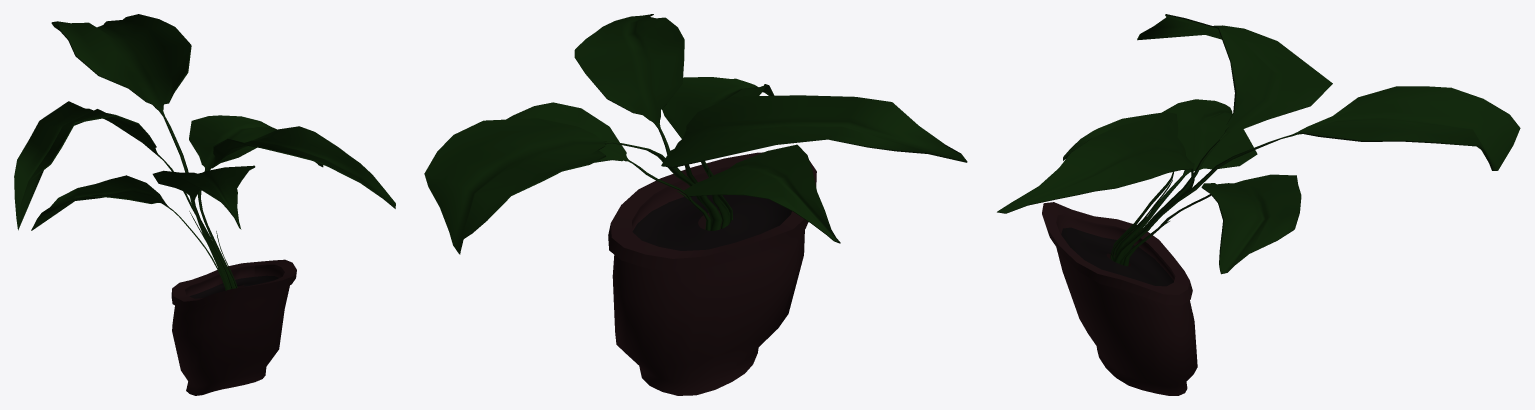
File: Planta_Cursed (1).fbx
The picture shows the model from 3 angles, left to right: view 1: azimuth 30°, elevation 25°; view 2: azimuth 150°, elevation 25°; view 3: azimuth 270°, elevation 25°; orthographic projection. The views are drawn at different scales.
Parts seen in each view (by area): view 1: polySurface7, pCylinder1; view 2: polySurface7, pCylinder1; view 3: polySurface7, pCylinder1.
Boxes of the visible parts, box(x1,y1,x2,y2) form: polySurface7: box(14, 14, 395, 290); pCylinder1: box(171, 259, 296, 395); polySurface7: box(424, 14, 967, 254); pCylinder1: box(608, 152, 816, 395); polySurface7: box(997, 14, 1520, 274); pCylinder1: box(1042, 202, 1197, 395).
Bounding box in the file's own units: 24.43 × 18.66 × 29.82.
